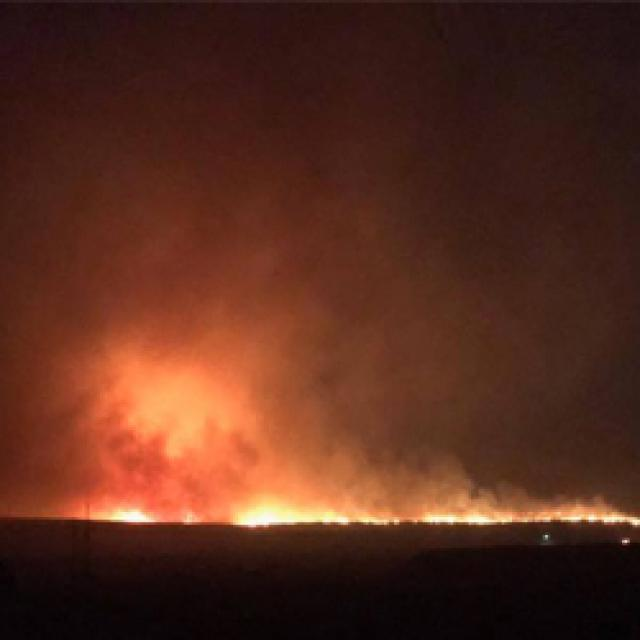Fire: (413, 508, 640, 527), (232, 500, 350, 530), (357, 513, 400, 534), (102, 510, 158, 526)
Smoke: (0, 3, 640, 425), (0, 423, 634, 505)
